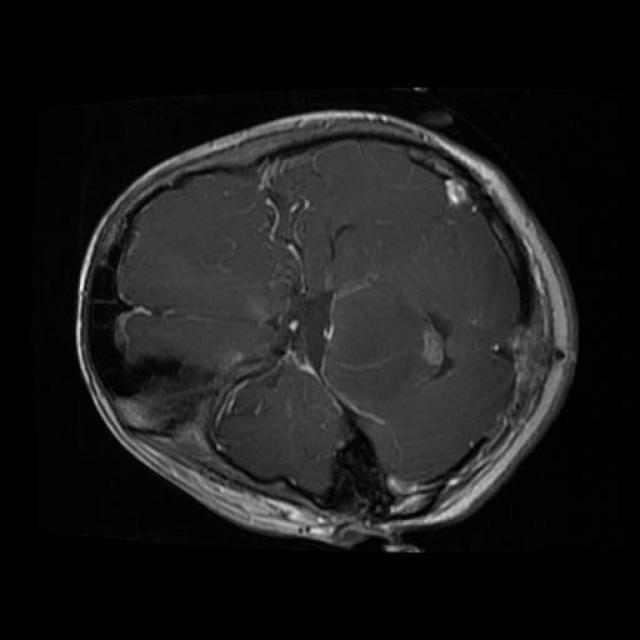Glioma: (323, 408, 394, 520), (104, 354, 187, 435)
